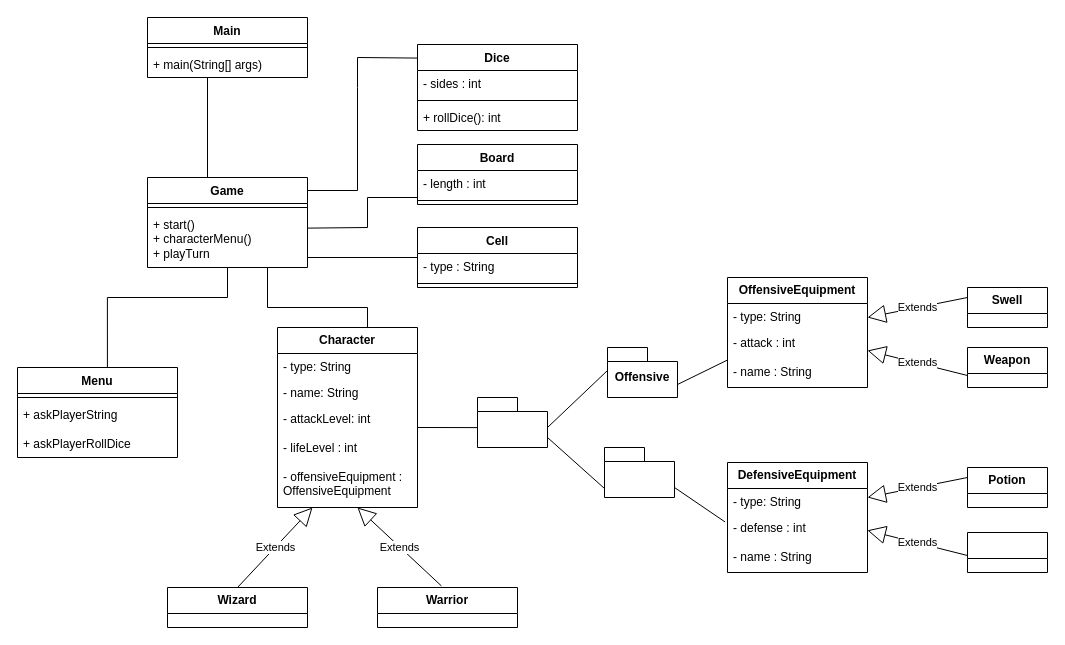
The diagram is 1065 pixels wide and 645 high, and some of its shapes have lost their labels. Here are the shapes that lost their labels. From the top down, the centre of each, then its label:
At (x=512, y=422): "Equipment".
At (x=639, y=472): "Defensive".
At (x=1007, y=552): "Shield".
